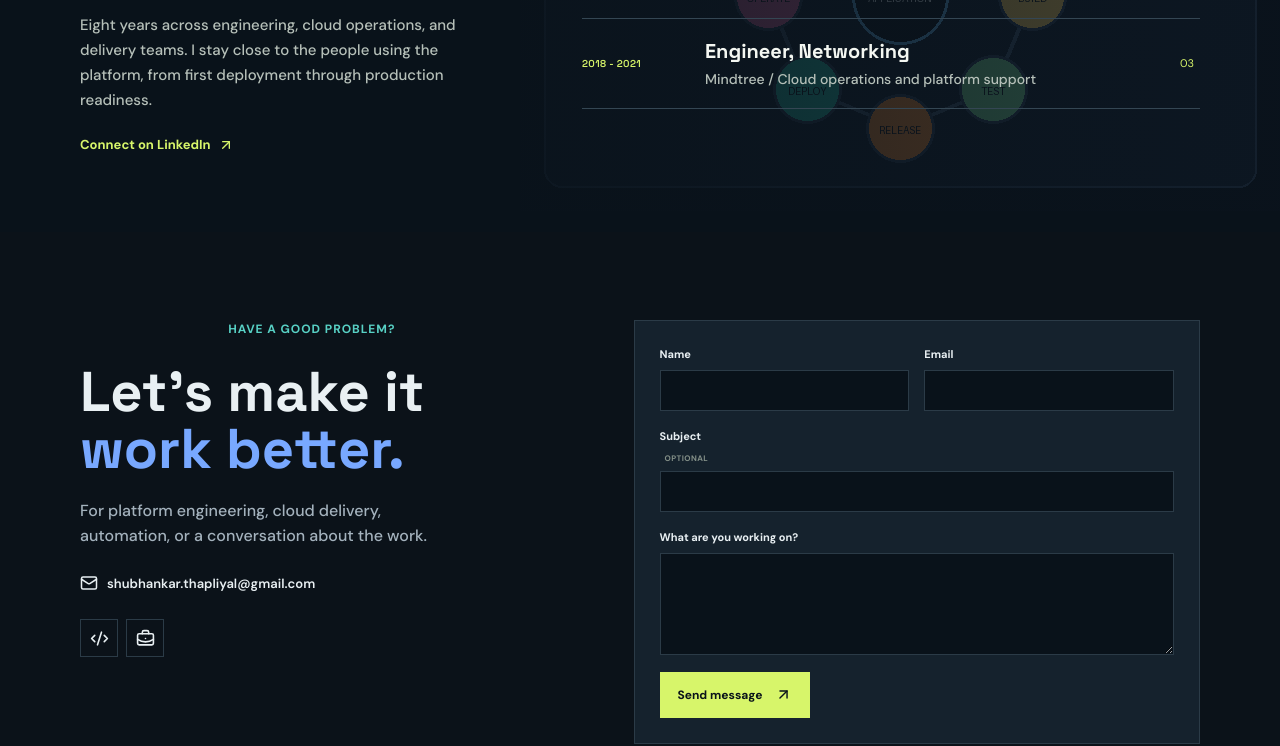
Test case: portfolio website › shows contact API errors without losing the form input
(page scrolled)
Type "Alex Example" into the field labelled "Name" at coordinates (784, 391), box [660,370,909,411]
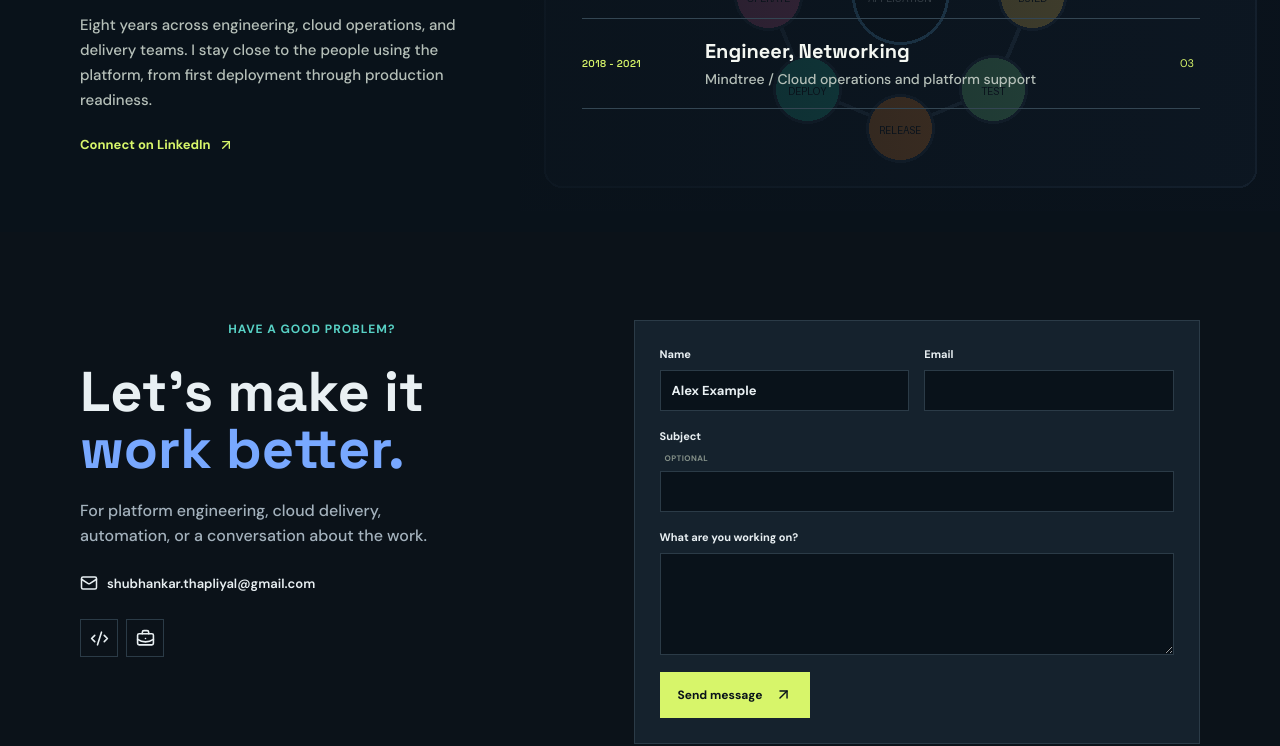
Type "alex@example.com" into the field labelled "Email" at coordinates (1049, 391), box [924,370,1174,411]
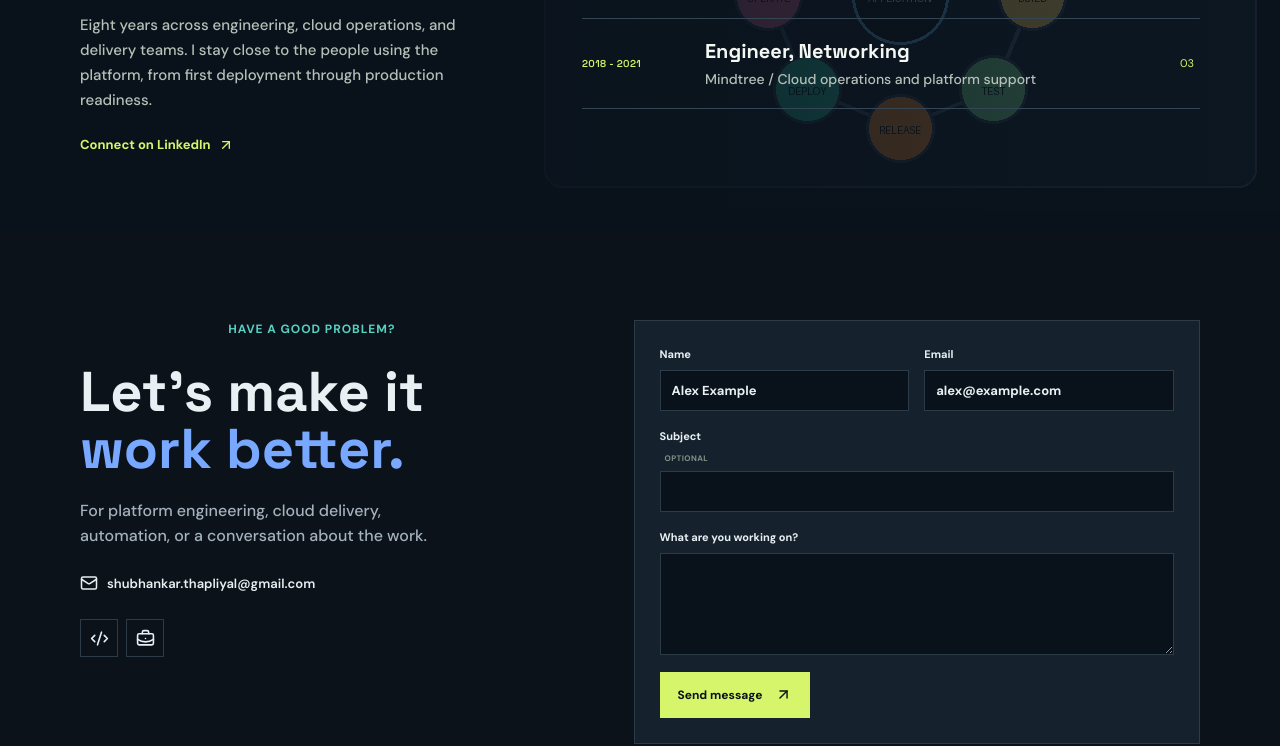
Type "We need help improving a cloud delivery platform." into the text box labelled "What are you working on?" at coordinates (917, 604), box [660,553,1174,655]
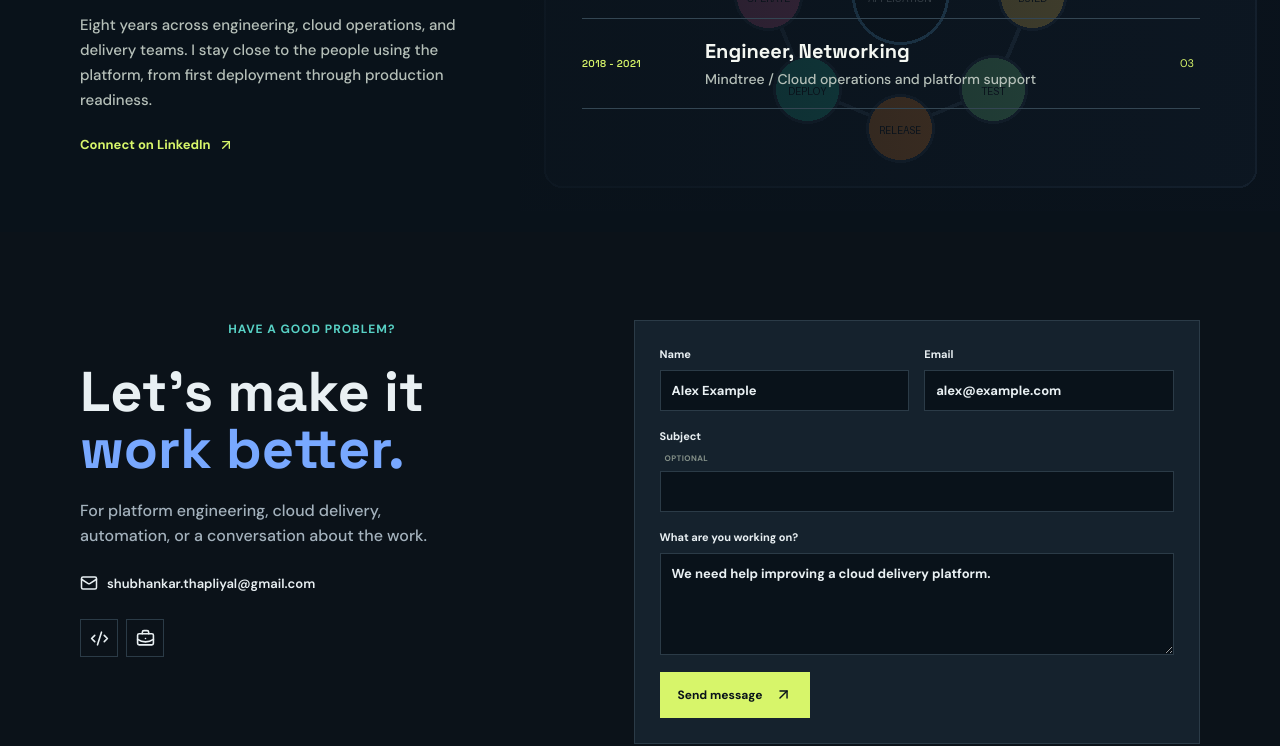
Submit the form labelled "What are you working on?", box [634,320,1200,744]
(page scrolled)
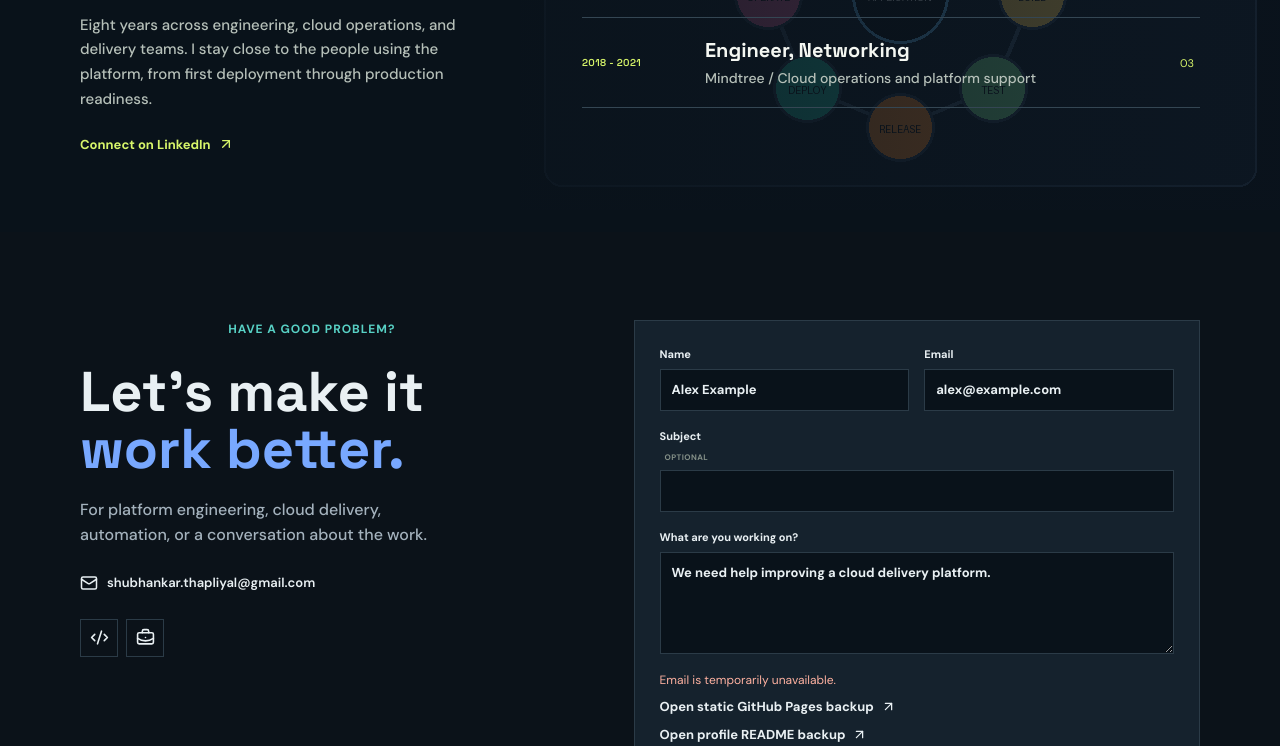
Expected: the message reads "Email is temporarily unavailable.", [660,672,836,688]
